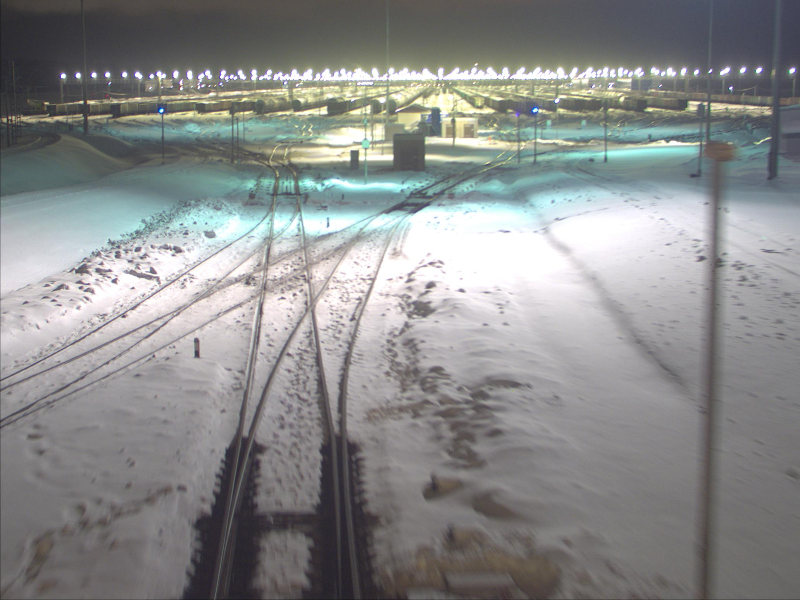right: (210, 293, 374, 598)
